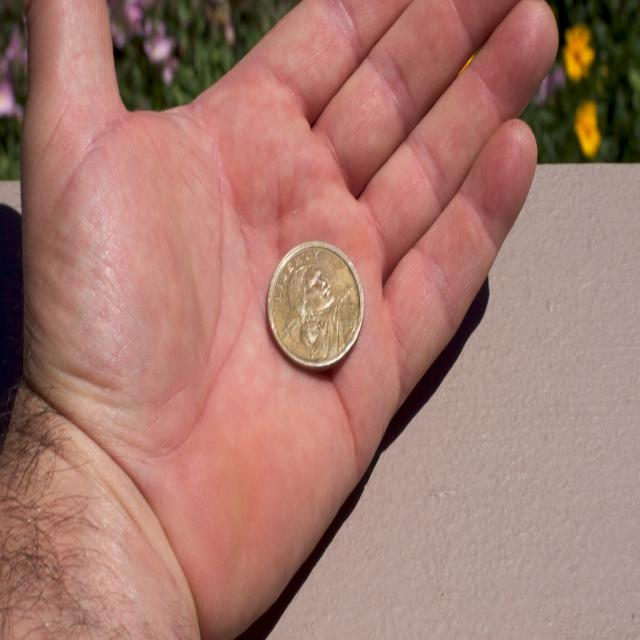Coin: (266, 237, 363, 370)
